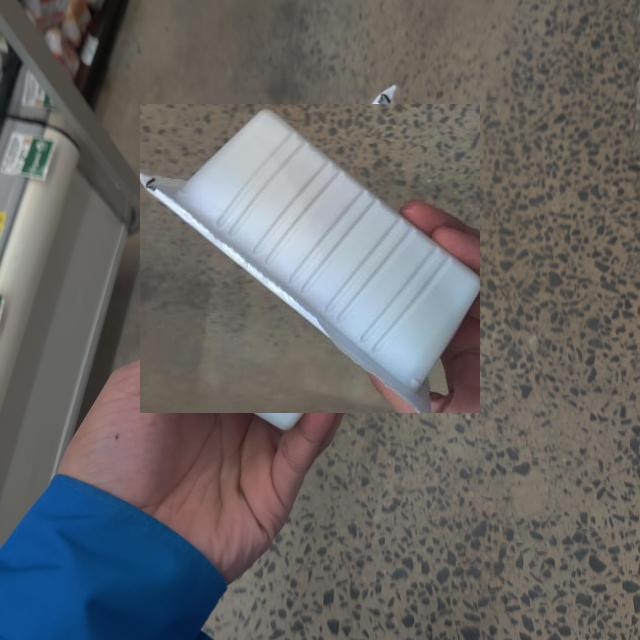Tofu: (140, 103, 480, 413)
